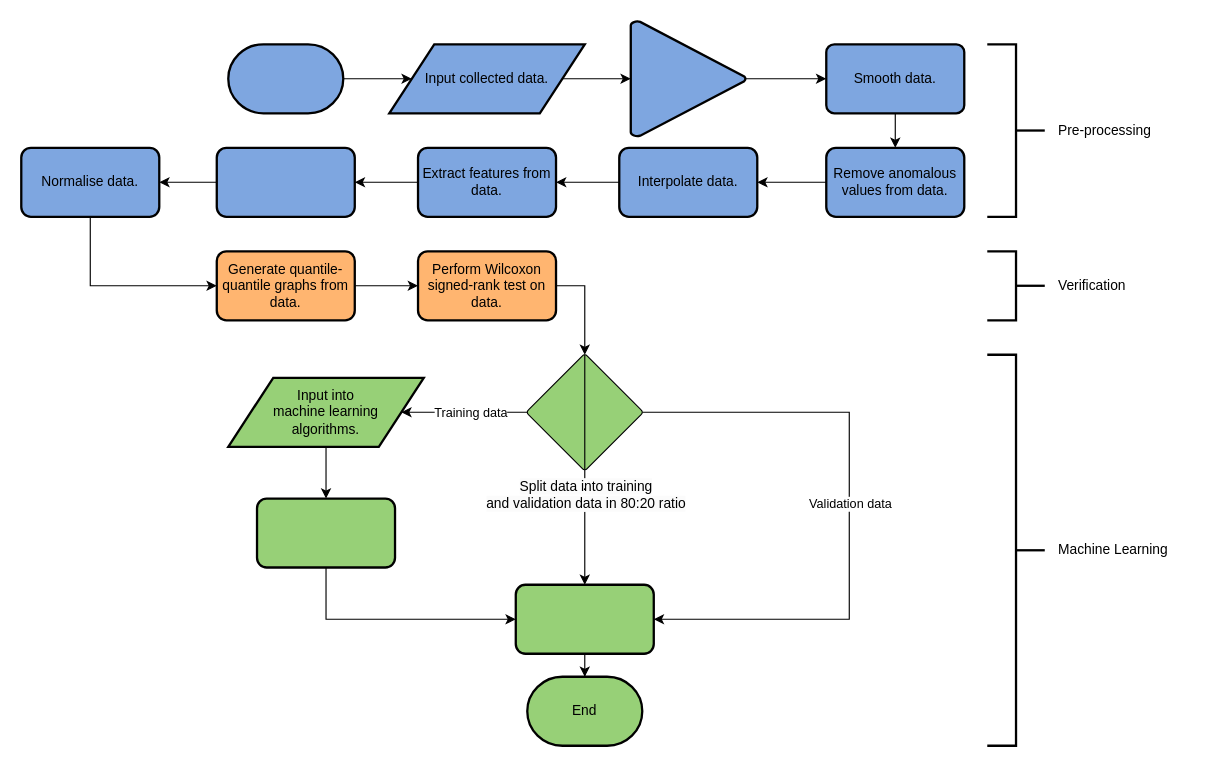
This 1213x766 diagram has some shape labels left out. Each missing label, with the box of its shape:
Generate MSE and R values: (514, 583, 654, 654)
Generate predicted values.: (255, 497, 396, 568)
Merge data files.: (629, 20, 746, 137)
Start: (227, 43, 344, 114)
Synchronise data.: (215, 146, 355, 217)
